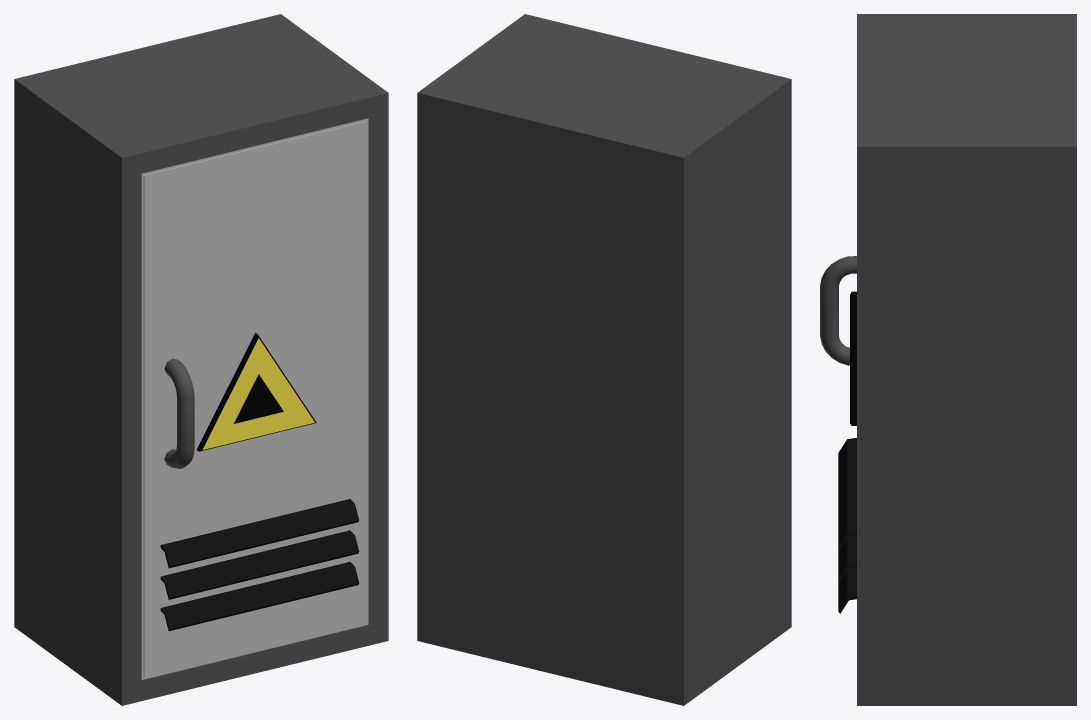
The model's file is Prop_ElectracityCabinet_01.fbx.
3 renders of one model, left to right at view 1: azimuth 30°, elevation 25°; view 2: azimuth 150°, elevation 25°; view 3: azimuth 270°, elevation 25°, orthographic. The views are drawn at different scales.
Visible parts, largest first — view 1: Prop_ElectracityCabinet_01; view 2: Prop_ElectracityCabinet_01; view 3: Prop_ElectracityCabinet_01.
Part boxes in pixels (left/top/right/bottom): Prop_ElectracityCabinet_01: left=14, top=14, right=388, bottom=705; Prop_ElectracityCabinet_01: left=417, top=14, right=791, bottom=705; Prop_ElectracityCabinet_01: left=820, top=14, right=1076, bottom=705.
Size of the model in its own units: 64 by 126 by 52.31.
